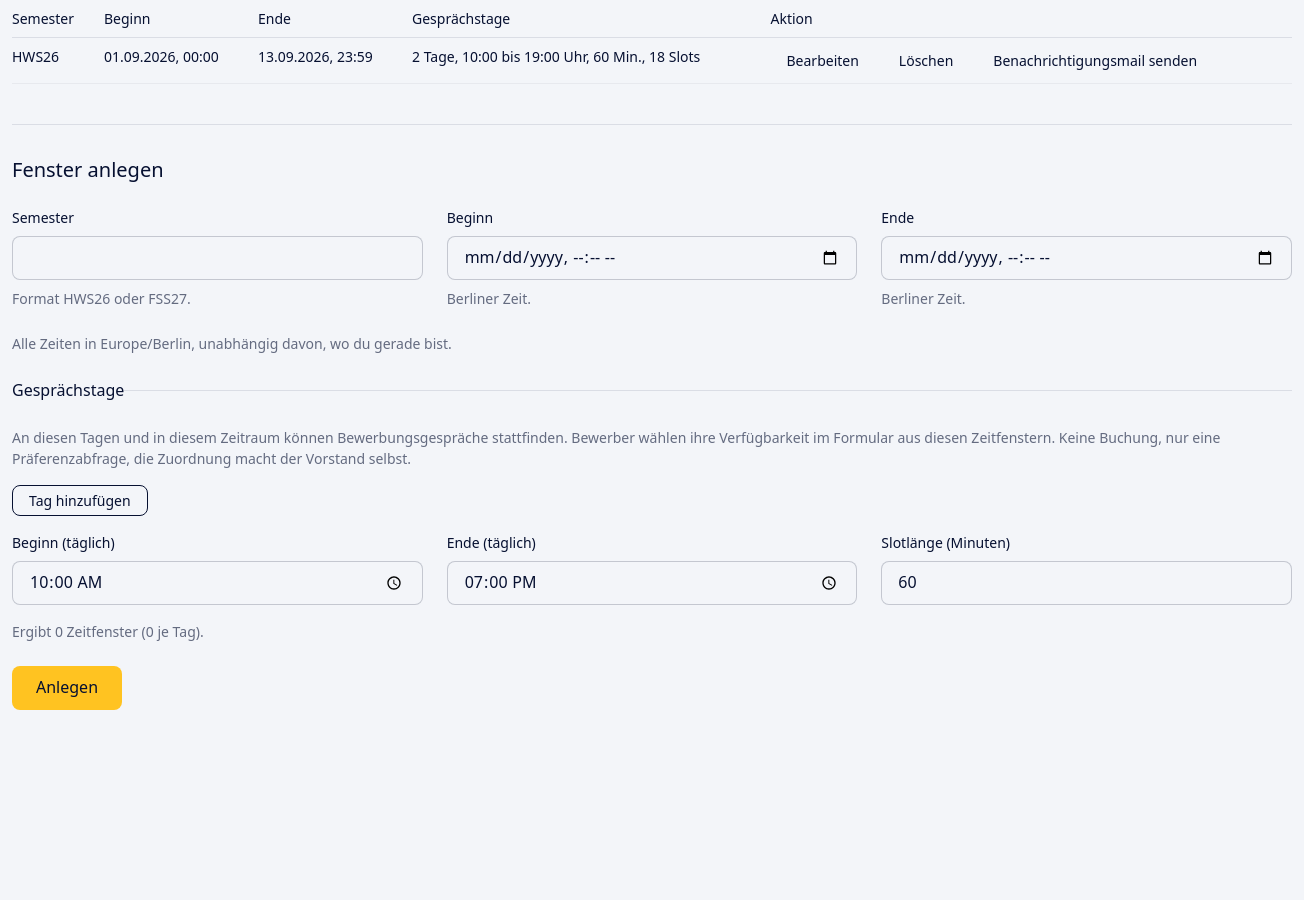
Scenario: RecruitingWindowsManager — interview grid › pre-fills the edit form's interview grid when editing an existing window
Click the button "Bearbeiten" at (823, 60), box [770,46,875,75]
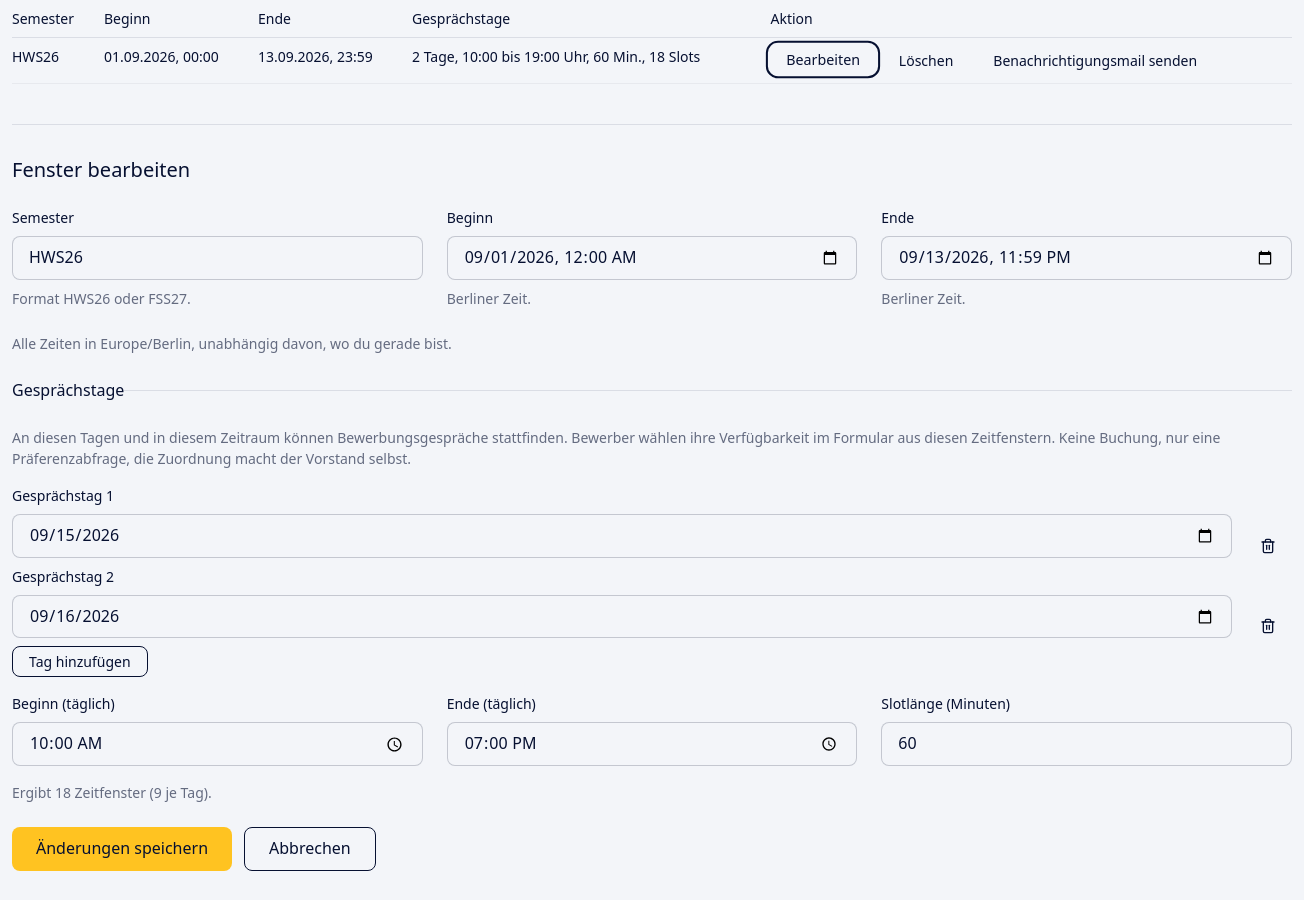
Check: the number field labelled "Slotlänge (Minuten)" holds "60", box [881,722,1292,766]
Check: the date field labelled "Gesprächstag 1" holds "2026-09-15", box [12,514,1232,558]
Check: the date field labelled "Gesprächstag 2" holds "2026-09-16", box [12,595,1232,638]
